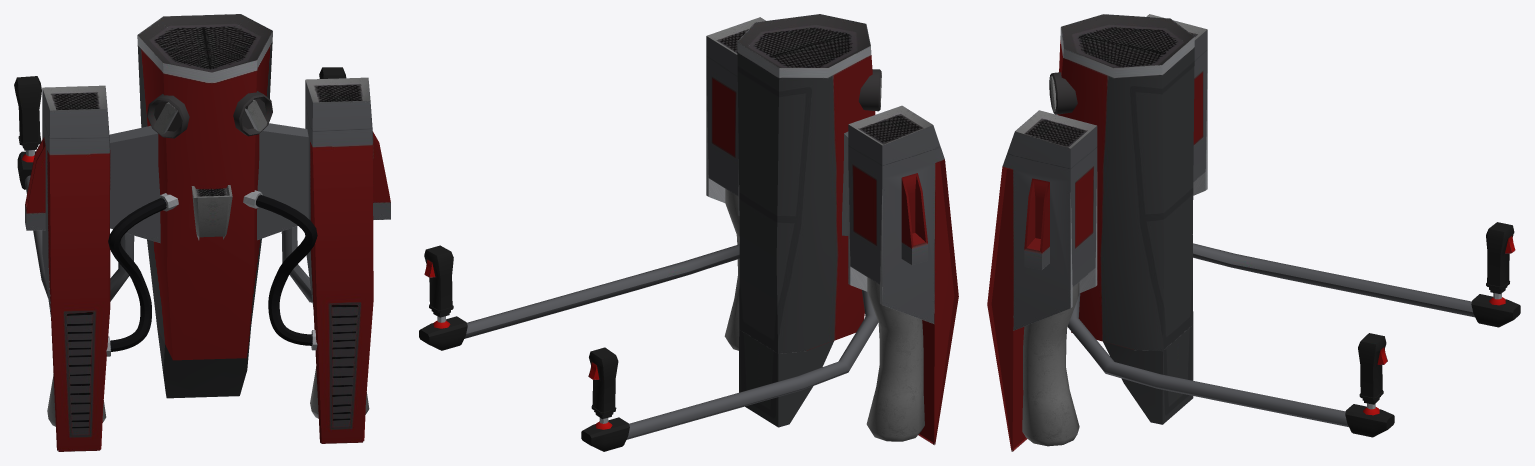
File: scifi_jetpack.glb
3 renders of one model, left to right at view 1: azimuth 30°, elevation 25°; view 2: azimuth 150°, elevation 25°; view 3: azimuth 270°, elevation 25°, orthographic. The views are drawn at different scales.
Parts seen in each view (by area): view 1: Jetpack_Scifi_Material #27_0; view 2: Jetpack_Scifi_Material #27_0; view 3: Jetpack_Scifi_Material #27_0.
Boxes of the visible parts, x1,y1,x2,y2 form: Jetpack_Scifi_Material #27_0: [14, 14, 390, 451]; Jetpack_Scifi_Material #27_0: [419, 14, 958, 451]; Jetpack_Scifi_Material #27_0: [987, 14, 1520, 451].
Size of the model in its own units: 0.7808 by 0.6686 by 0.8825.
1 material, 1 textured.
